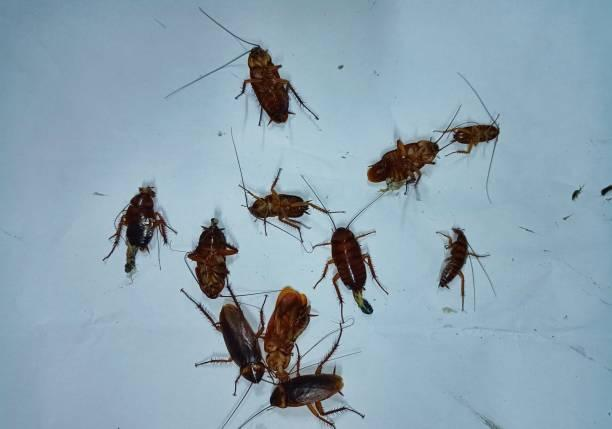cockroach: (135, 0, 347, 143), (398, 67, 537, 203), (288, 179, 400, 334), (144, 278, 275, 404), (346, 113, 498, 219), (403, 198, 513, 343), (201, 142, 338, 250), (225, 256, 326, 396), (224, 350, 389, 429), (161, 187, 261, 309), (91, 155, 178, 288)
